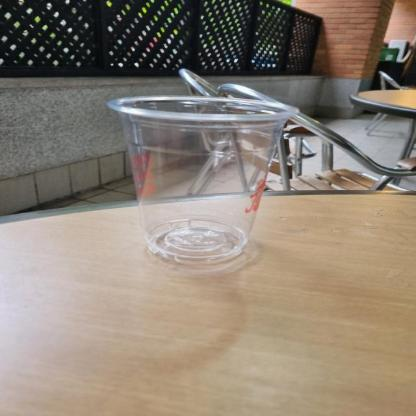Plastic Cup: (104, 94, 298, 266)
